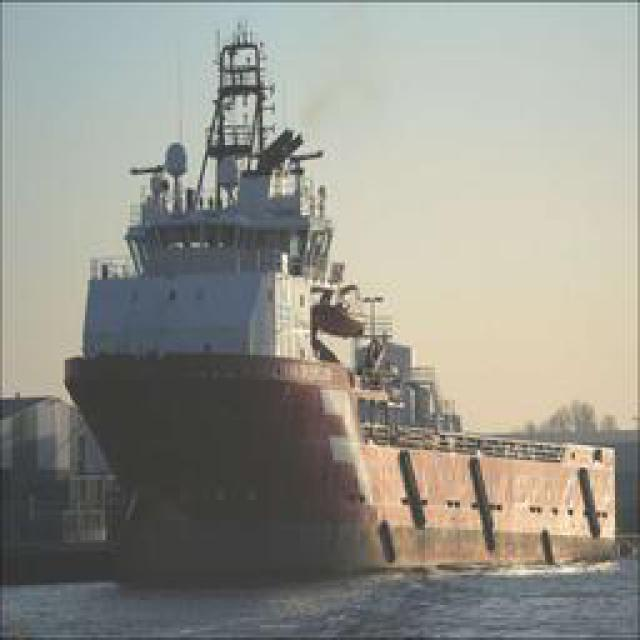Ship: (59, 7, 635, 576)
